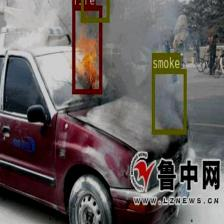fire: (72, 5, 102, 92)
smoke: (151, 68, 186, 134), (80, 0, 109, 21)
